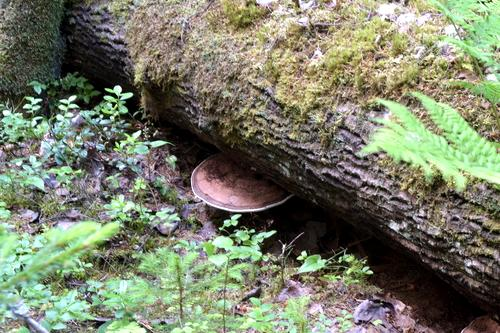Ganoderma - Fruit Body: (191, 148, 301, 212)
